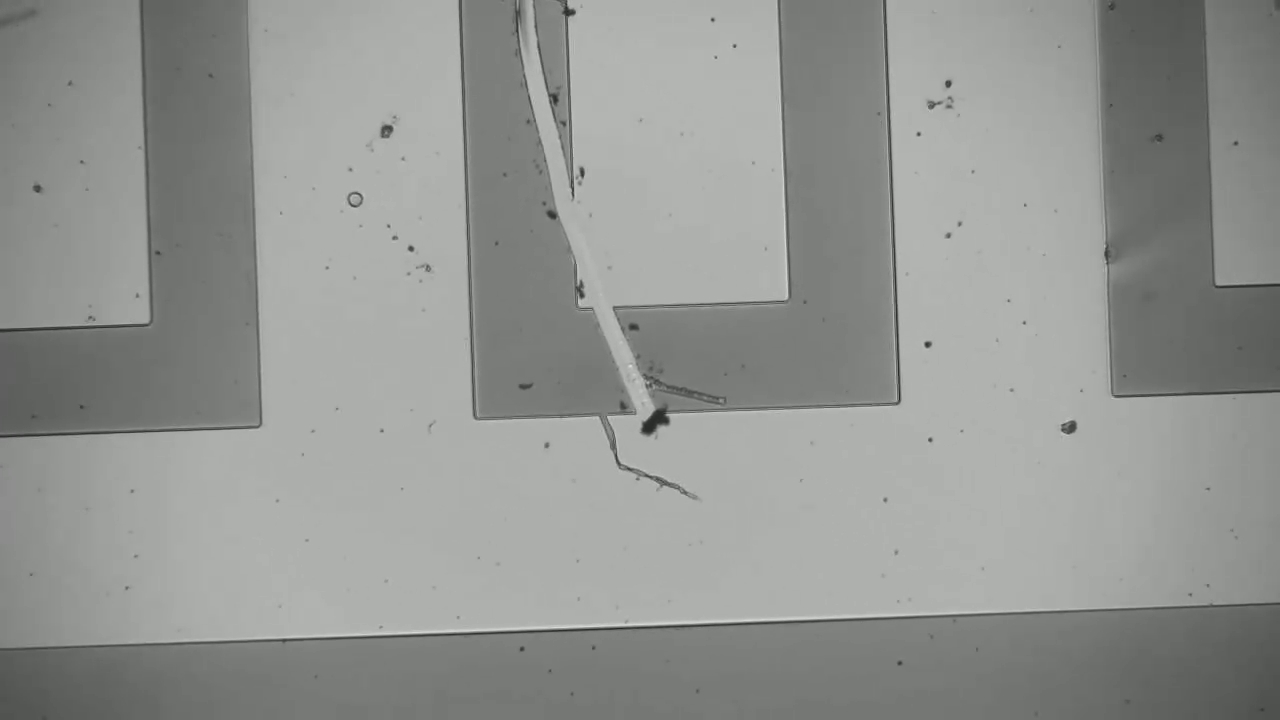Short_circuit: (586, 269, 682, 456)
